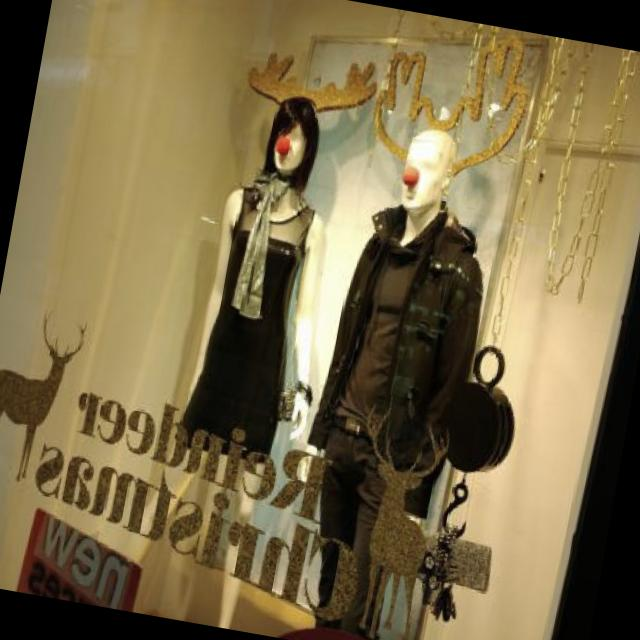Person: (275, 115, 511, 640), (144, 86, 362, 634)
